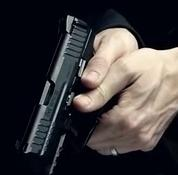gun: (1, 1, 178, 175)
